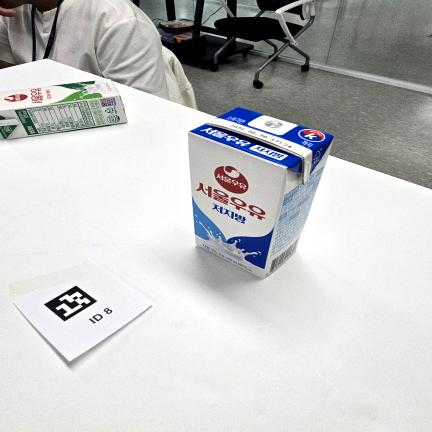milk_blue: (187, 106, 335, 279)
milk_green: (0, 78, 128, 141)
